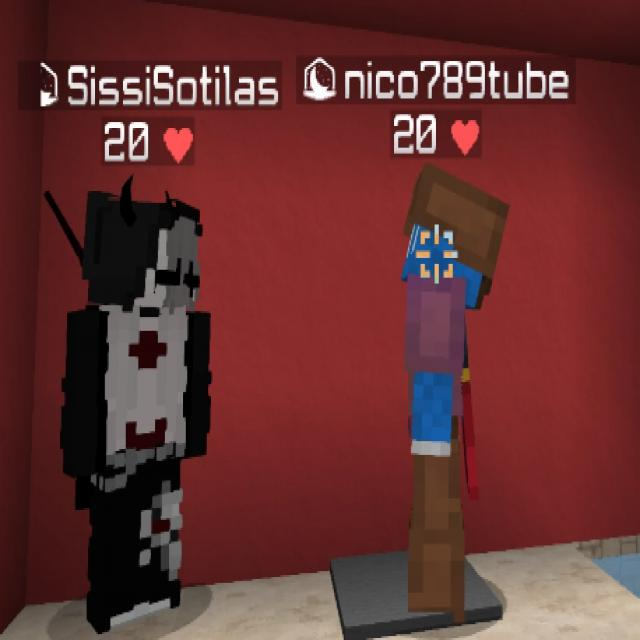Player: (65, 188, 212, 627), (400, 161, 508, 614)
